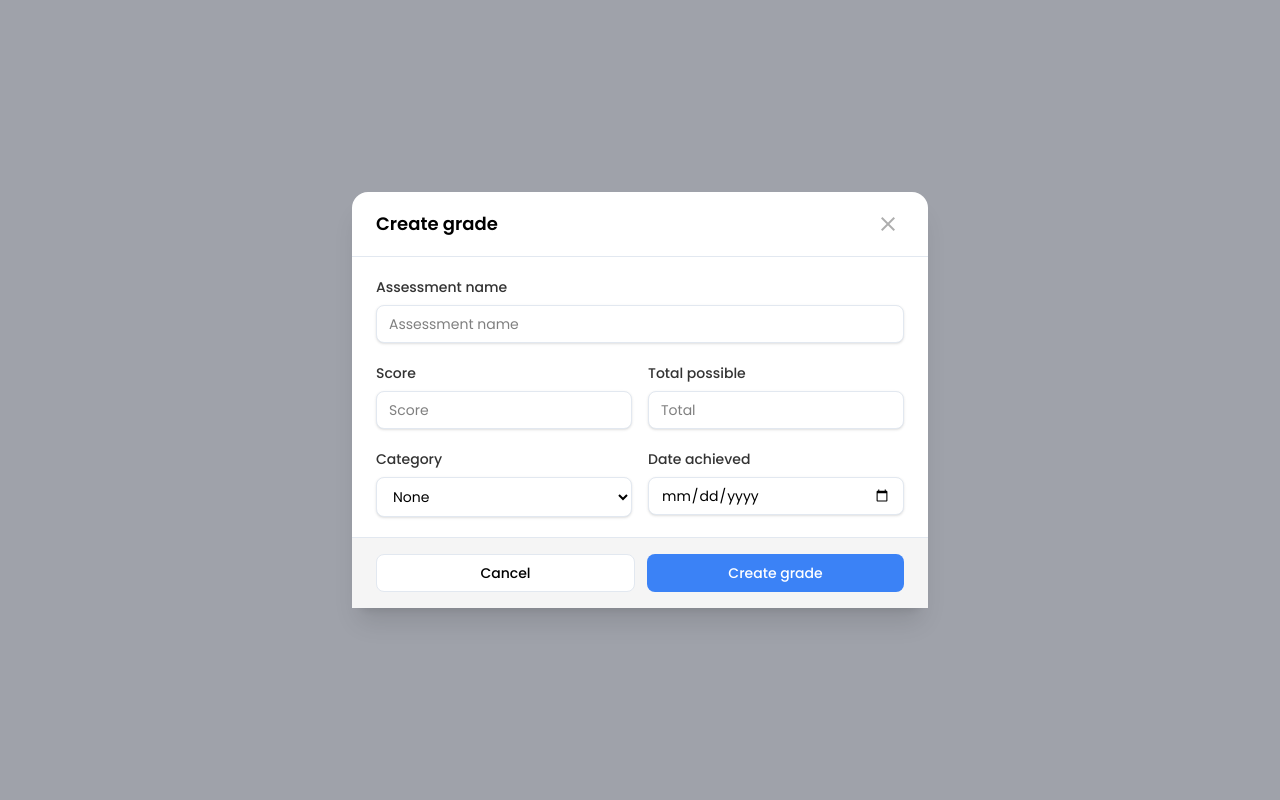
Test: CreateGradeModal Component › displays error when score is greater than total
Step 1. Type "110" into the number field with placeholder "Score" → (504, 410), box x1=376 y1=391 x2=632 y2=429
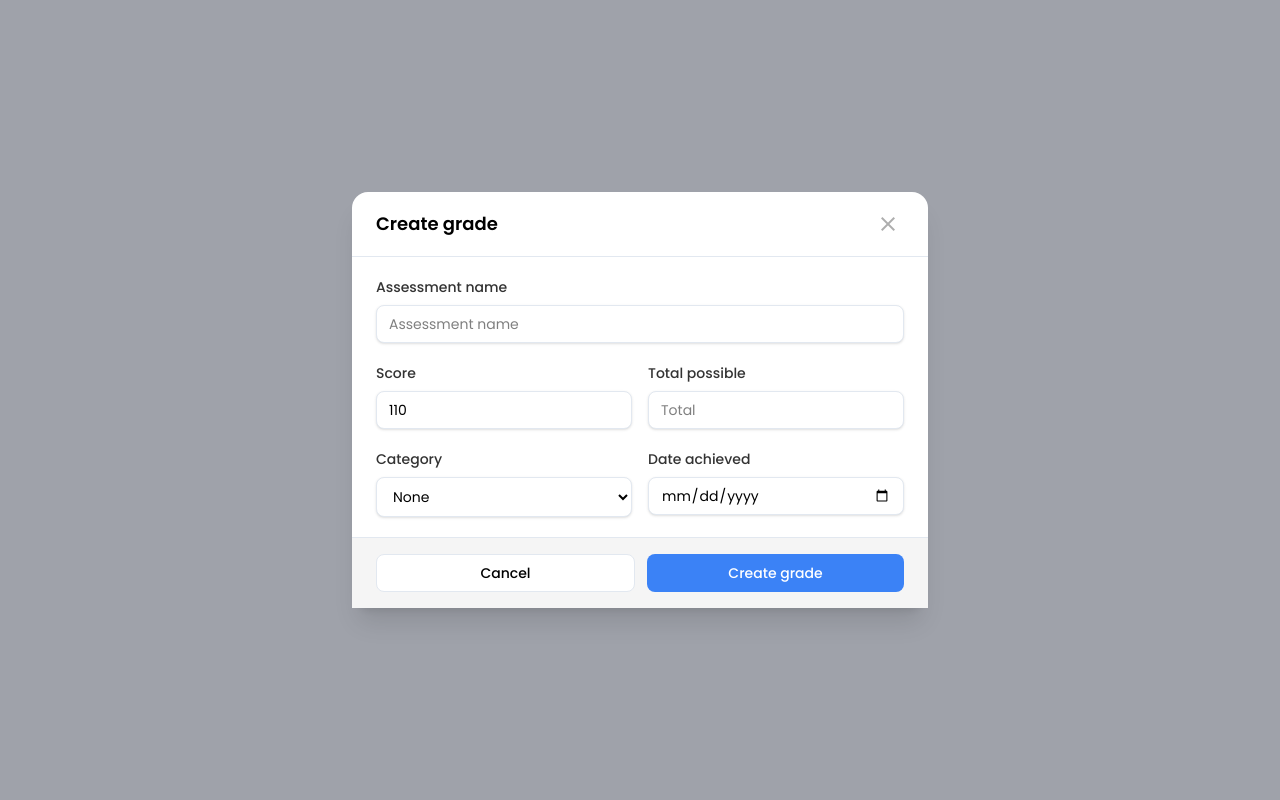
Step 2. Type "100" into the number field with placeholder "Total" → (776, 410), box x1=648 y1=391 x2=904 y2=429
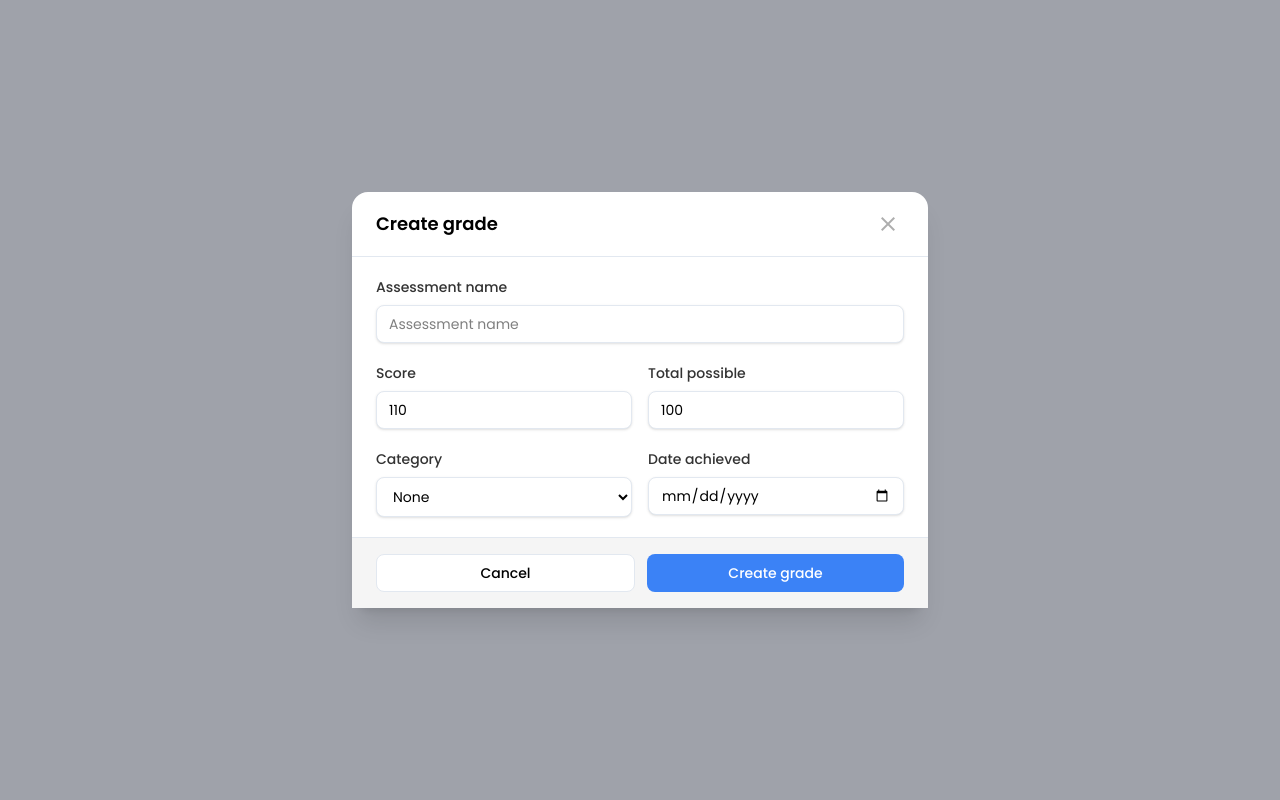
Step 3. Type "Test" into the field with placeholder "Assessment name" → (640, 324), box x1=376 y1=305 x2=904 y2=343
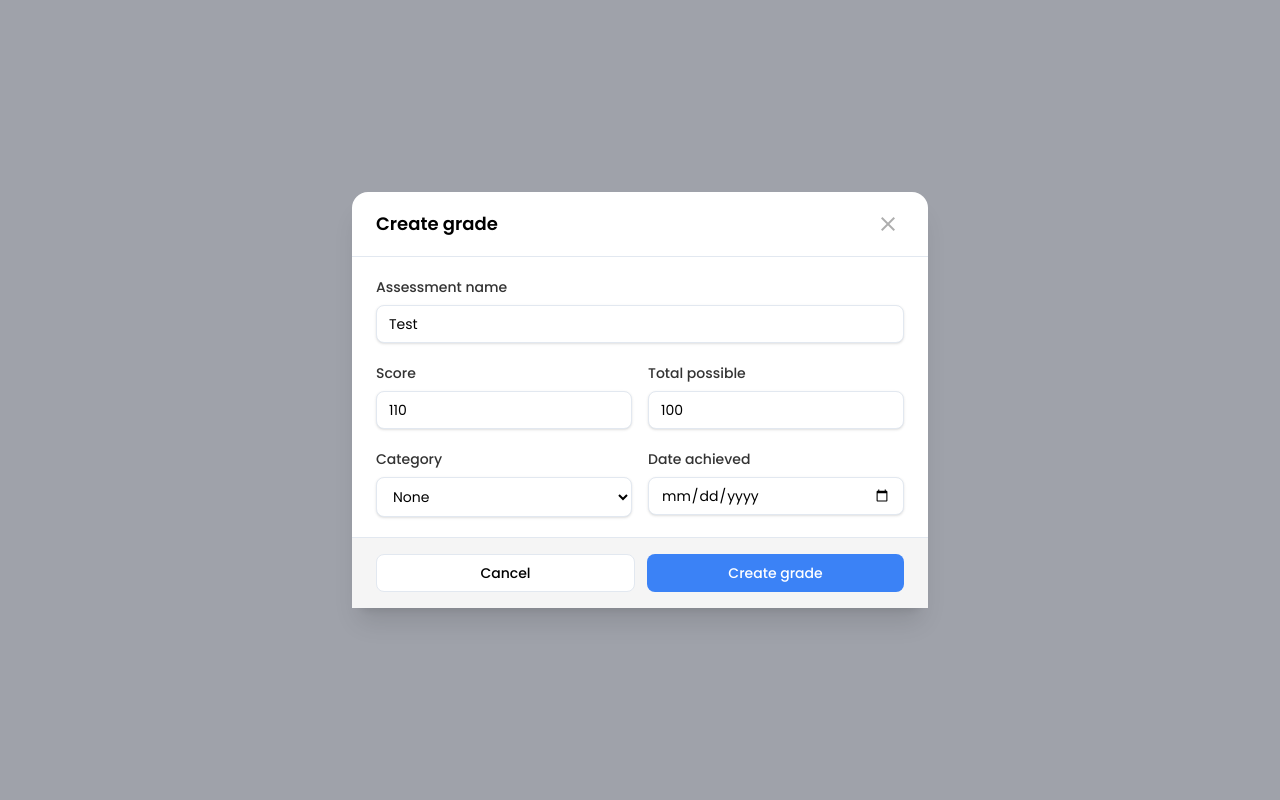
Step 4. Submit the form from the button "Create grade", box x1=647 y1=554 x2=904 y2=592
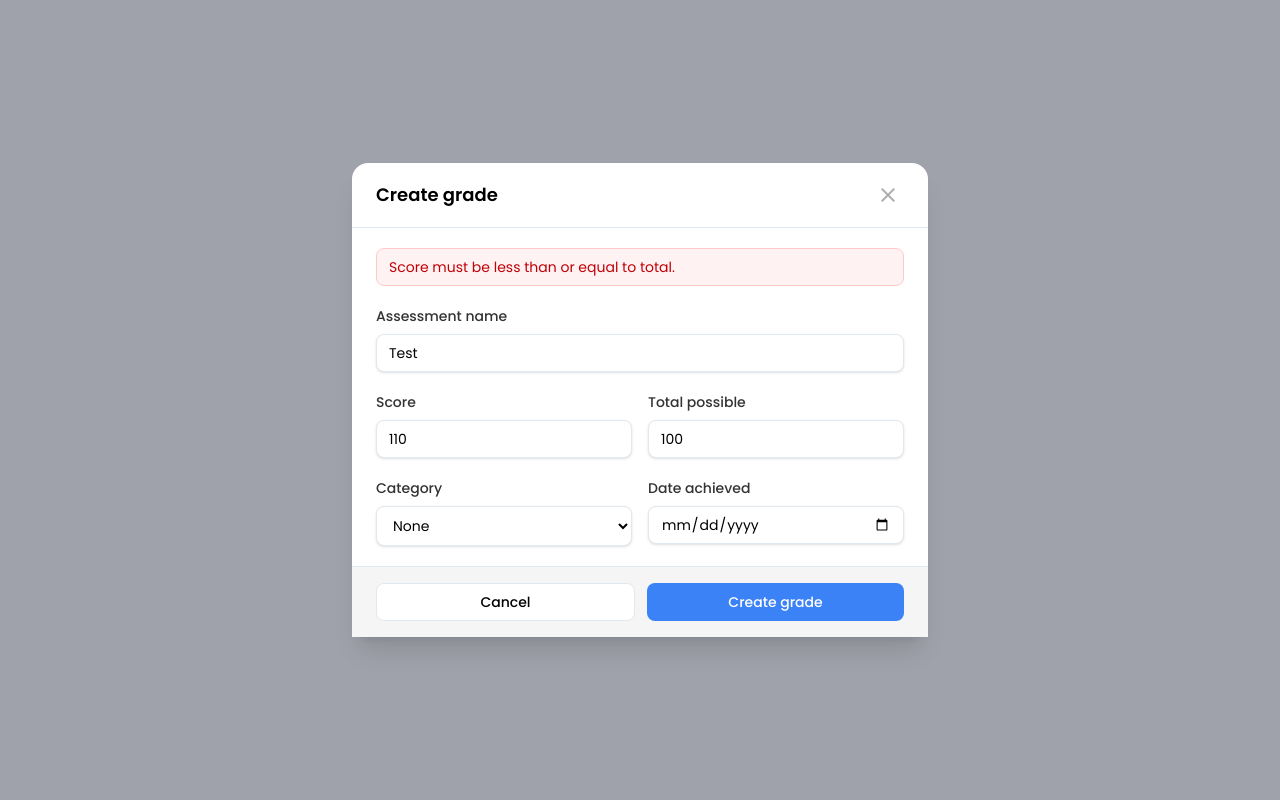
Result: the text "Score must be less than or equal to total." is shown at x1=376 y1=248 x2=904 y2=286
